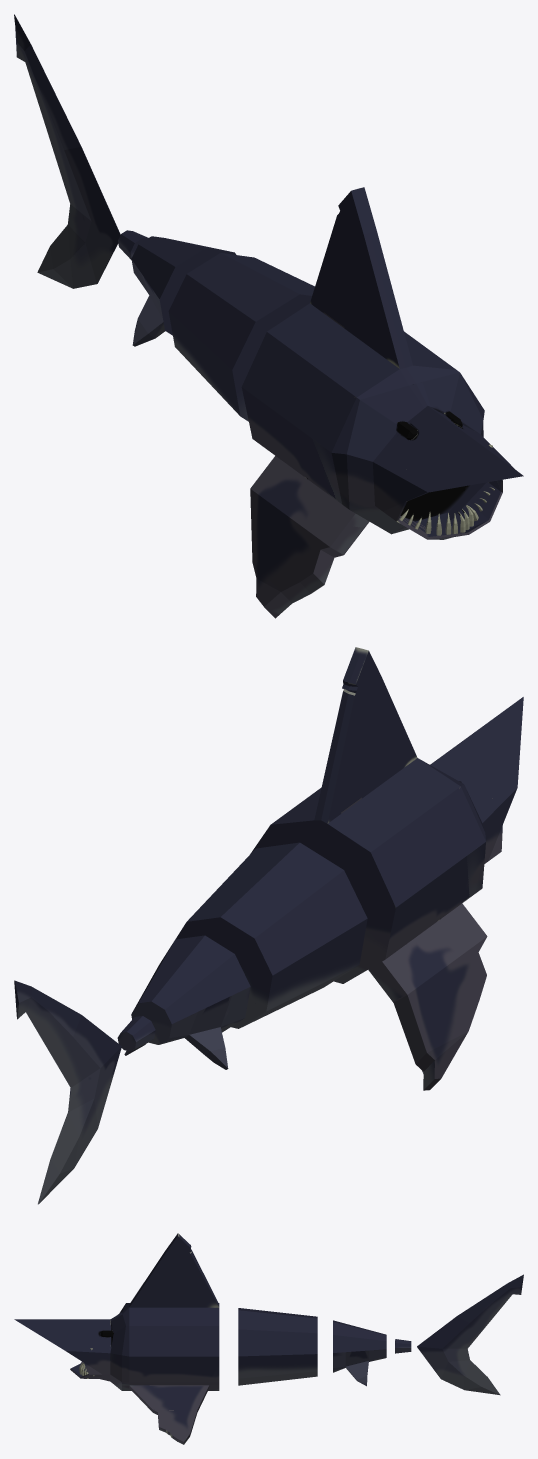
Rendered from shark.fbx.
3 views of the same model, one above another, from view 1: azimuth 30°, elevation 25°; view 2: azimuth 150°, elevation 25°; view 3: azimuth 270°, elevation 25° (orthographic). The views are drawn at different scales.
Visible parts, largest first — view 1: SharkFront, SharkBody, SharkFin, SharkBack; view 2: SharkFront, SharkBody, SharkBack, SharkFin, SharkTail; view 3: SharkFront, SharkBody, SharkFin, SharkBack.
Boxes of the visible parts, <box> form: SharkFront: <box>241,187,523,618</box>; SharkBody: <box>168,253,314,421</box>; SharkFin: <box>14,14,120,288</box>; SharkBack: <box>131,236,236,346</box>; SharkFront: <box>250,647,523,1090</box>; SharkBody: <box>176,842,367,1028</box>; SharkBack: <box>124,935,250,1069</box>; SharkFin: <box>14,980,121,1204</box>; SharkTail: <box>117,1016,155,1051</box>; SharkFront: <box>14,1233,219,1444</box>; SharkBody: <box>238,1308,317,1385</box>; SharkFin: <box>417,1274,523,1395</box>; SharkBack: <box>333,1320,386,1386</box>.
Bounding box in the file's own units: 279 × 512 × 1132.
5 materials, 5 textured.
